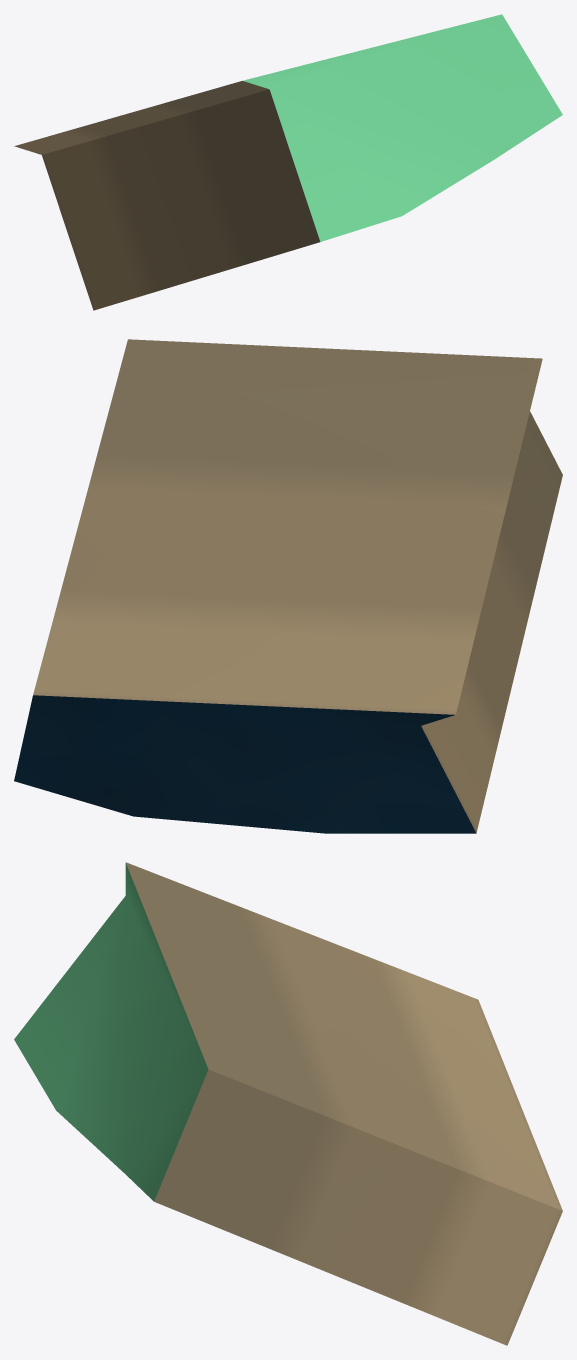
The model's file is 066f_Estonia.glb.
3 renders of one model, top to bottom at view 1: azimuth 30°, elevation 25°; view 2: azimuth 150°, elevation 25°; view 3: azimuth 270°, elevation 25°, orthographic. The views are drawn at different scales.
Visible parts, largest first — view 1: part_0; view 2: part_0; view 3: part_0.
Boxes of the visible parts, left/top/right/bottom form: part_0: left=14, top=14, right=562, bottom=310; part_0: left=14, top=339, right=562, bottom=833; part_0: left=14, top=862, right=562, bottom=1345.
Bounding box in the file's own units: 0.2681 × 0.1887 × 0.2607.
1 material, 1 textured.
